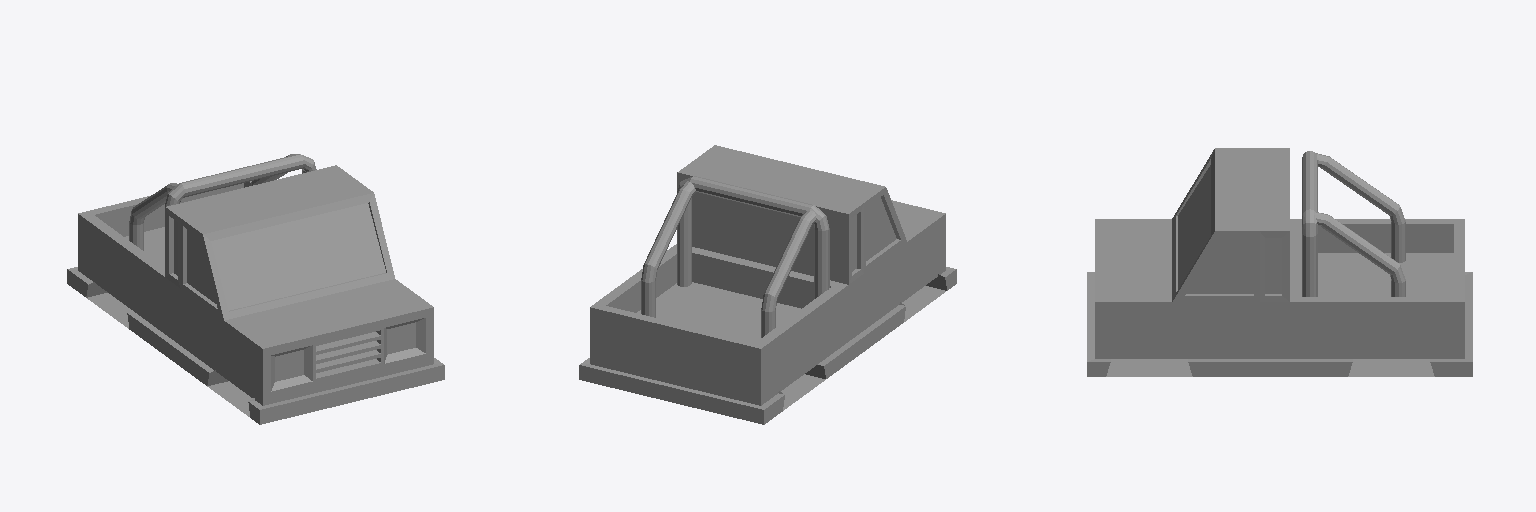
The model's file is car_body.obj.
The picture shows the model from 3 angles: view 1: azimuth 30°, elevation 25°; view 2: azimuth 150°, elevation 25°; view 3: azimuth 270°, elevation 25°; orthographic projection.
Parts seen in each view (by area): view 1: Cube; view 2: Cube; view 3: Cube.
Part boxes in pixels (left/top/right/bottom): Cube: left=67, top=154, right=444, bottom=424; Cube: left=579, top=145, right=956, bottom=424; Cube: left=1087, top=148, right=1472, bottom=376.
Bounding box in the file's own units: 1.61 × 1.27 × 2.9.